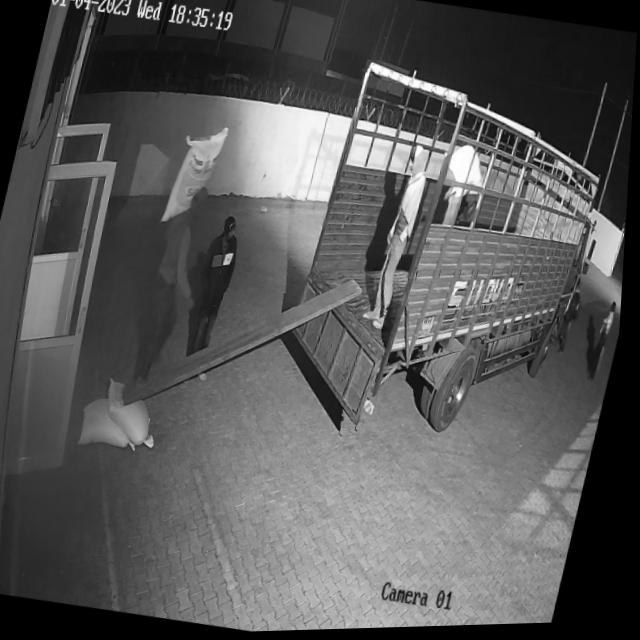sack: (161, 119, 232, 233), (99, 377, 173, 451), (81, 394, 150, 455), (444, 144, 494, 200)
